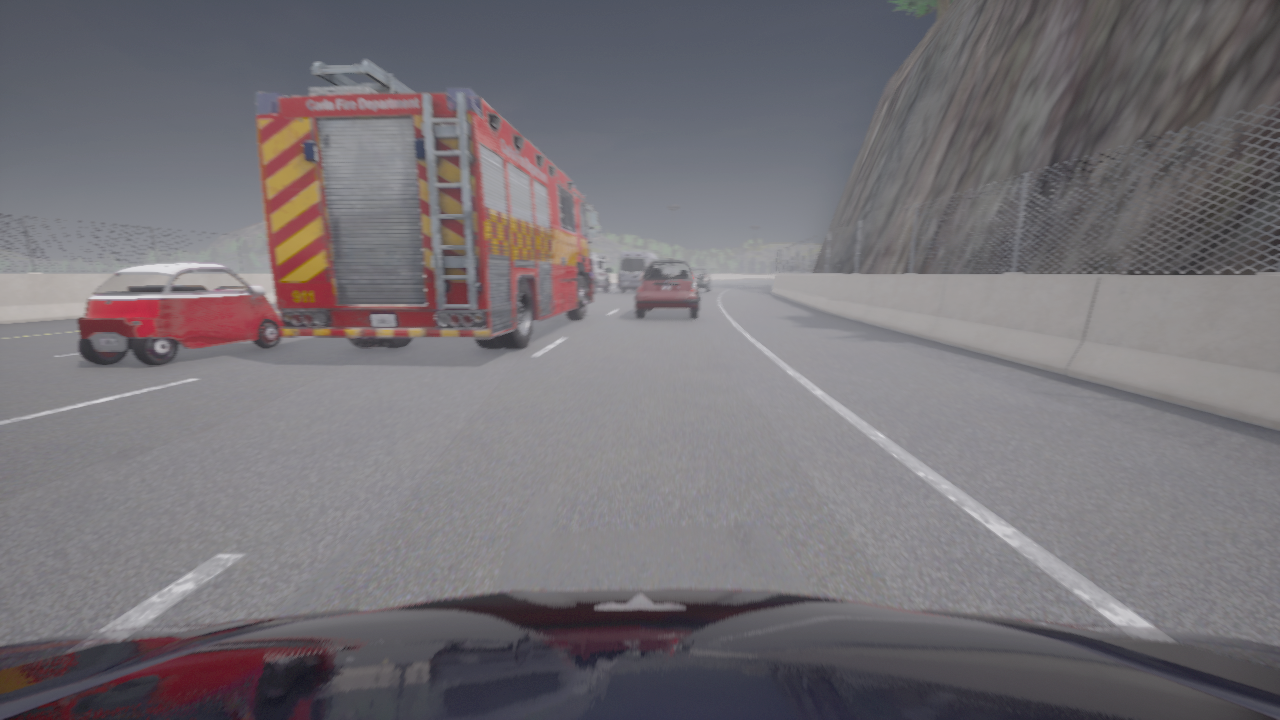cyclist: (0, 588, 1279, 719), (256, 60, 598, 348), (78, 262, 281, 365), (635, 259, 700, 318), (618, 251, 657, 292), (590, 252, 610, 293), (691, 267, 712, 292)
